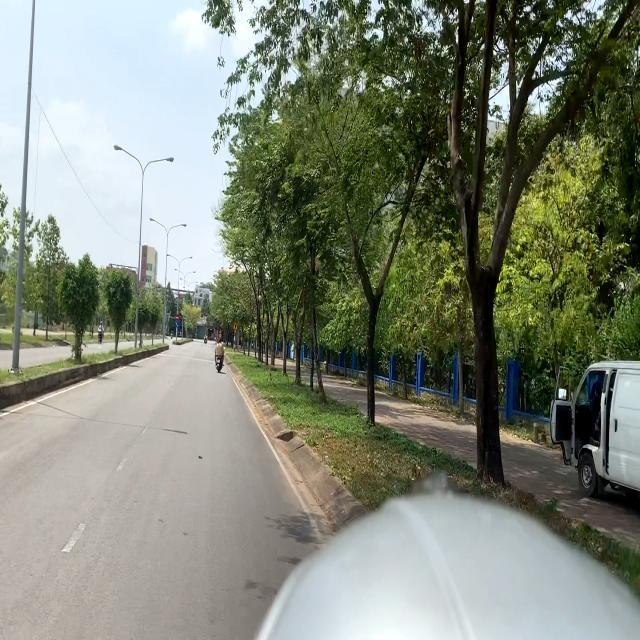Cam di nguoc chieu: (174, 314, 180, 320)
Giao nhau voi duong khong uu tien ben phai: (233, 322, 238, 330)
Vong chuong ngai vat sang phai: (174, 321, 180, 328)
